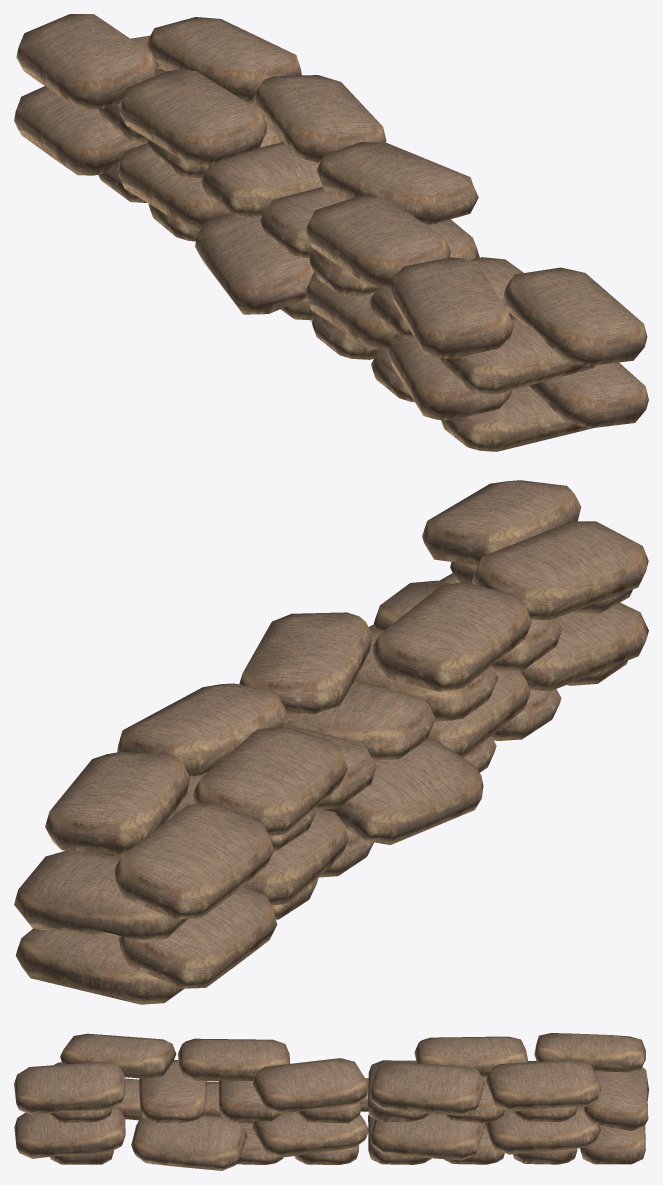
The picture shows the model from 3 angles, top to bottom: view 1: azimuth 30°, elevation 25°; view 2: azimuth 150°, elevation 25°; view 3: azimuth 270°, elevation 25°; orthographic projection. The views are drawn at different scales.
Parts seen in each view (by area): view 1: base_sb_line; view 2: base_sb_line; view 3: base_sb_line.
Boxes of the visible parts, x1=… form: base_sb_line: x1=14, y1=14, x2=648, y2=451; base_sb_line: x1=14, y1=480, x2=648, y2=1004; base_sb_line: x1=14, y1=1033, x2=648, y2=1170.
Bounding box in the file's own units: 3.03 × 1.61 × 10.53.
1 material, 1 textured.
